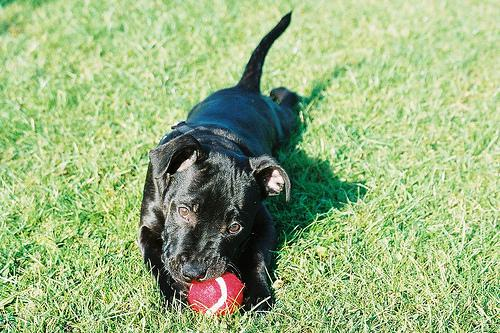dog-staffordshire_bull_terrier: (148, 133, 290, 285)
